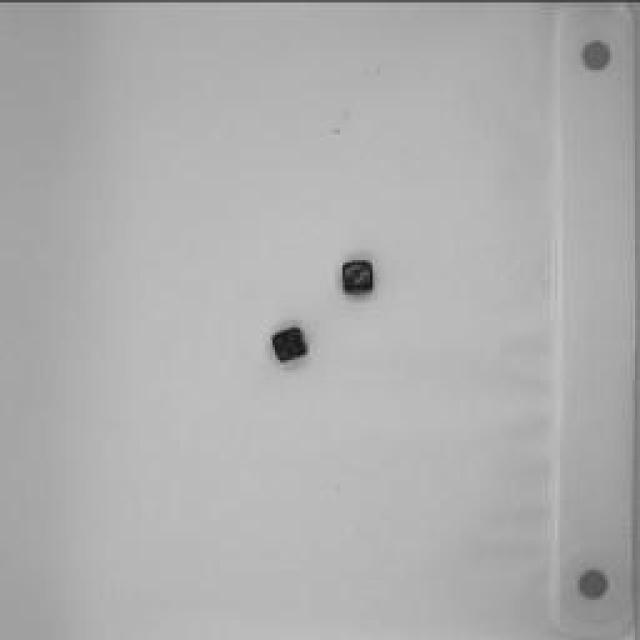dice_3: (341, 256, 379, 294)
dice_5: (272, 325, 310, 360)
